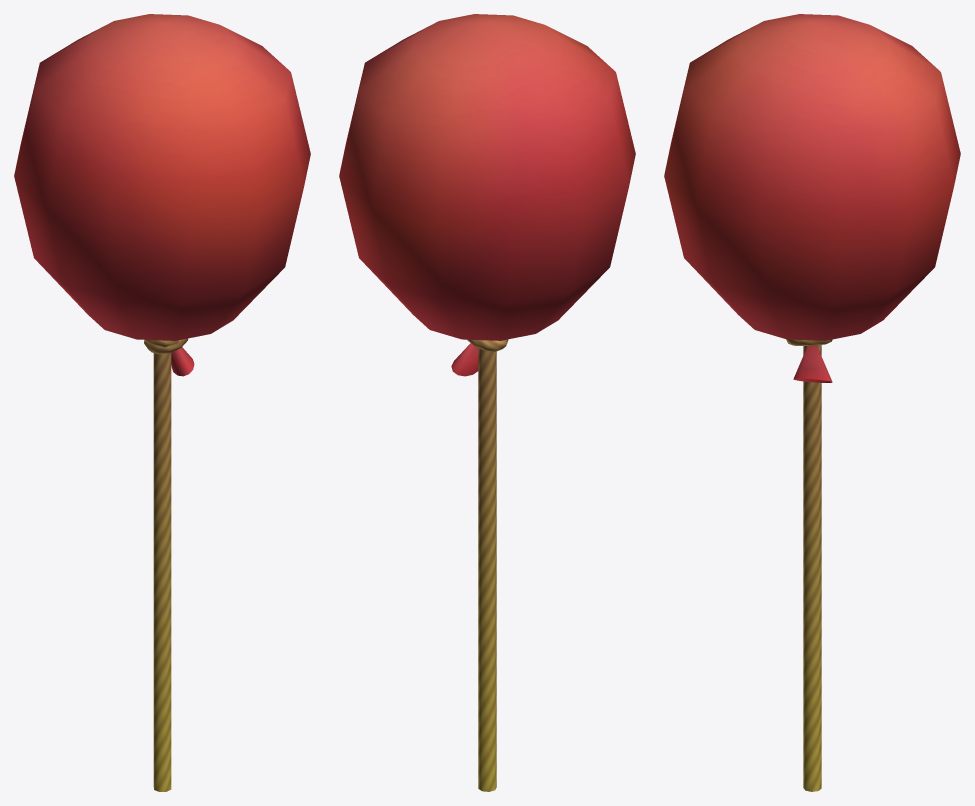
Rendered from SE_Baloon_03.fbx.
The picture shows the model from 3 angles, left to right: view 1: azimuth 30°, elevation 25°; view 2: azimuth 150°, elevation 25°; view 3: azimuth 270°, elevation 25°; orthographic projection.
Parts seen in each view (by area): view 1: SE_Baloon_03; view 2: SE_Baloon_03; view 3: SE_Baloon_03.
Part boxes in pixels (left/top/right/bottom): SE_Baloon_03: left=14, top=14, right=310, bottom=791; SE_Baloon_03: left=339, top=14, right=635, bottom=791; SE_Baloon_03: left=664, top=14, right=960, bottom=791.
Bounding box in the file's own units: 1.81 × 5.14 × 1.81.
